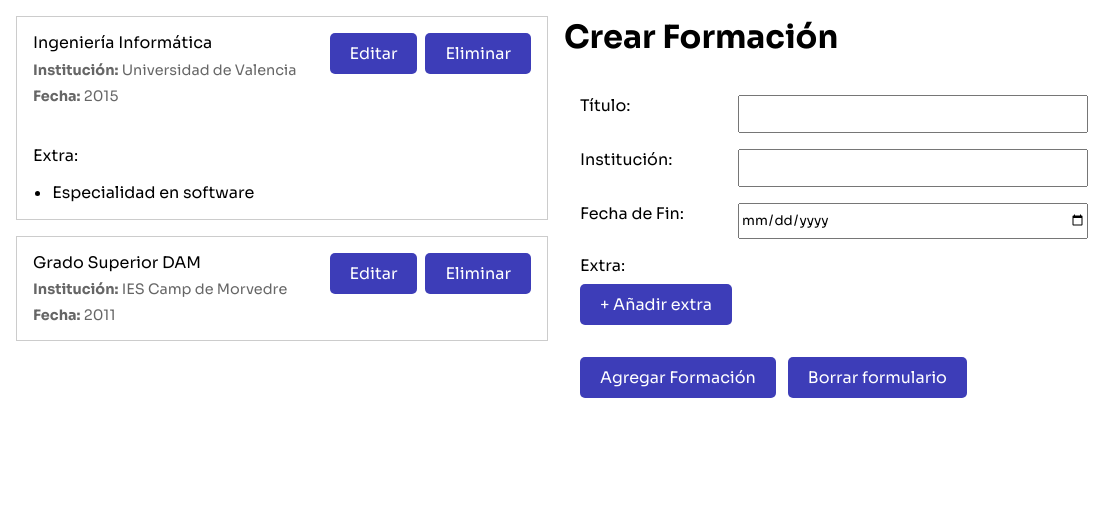
<Formacion /> › la «X» de un extra borra solo esa fila
This screenshot has width=1105, height=507.
Click the button "+ Añadir extra".
click(656, 304)  # box [580,284,732,325]
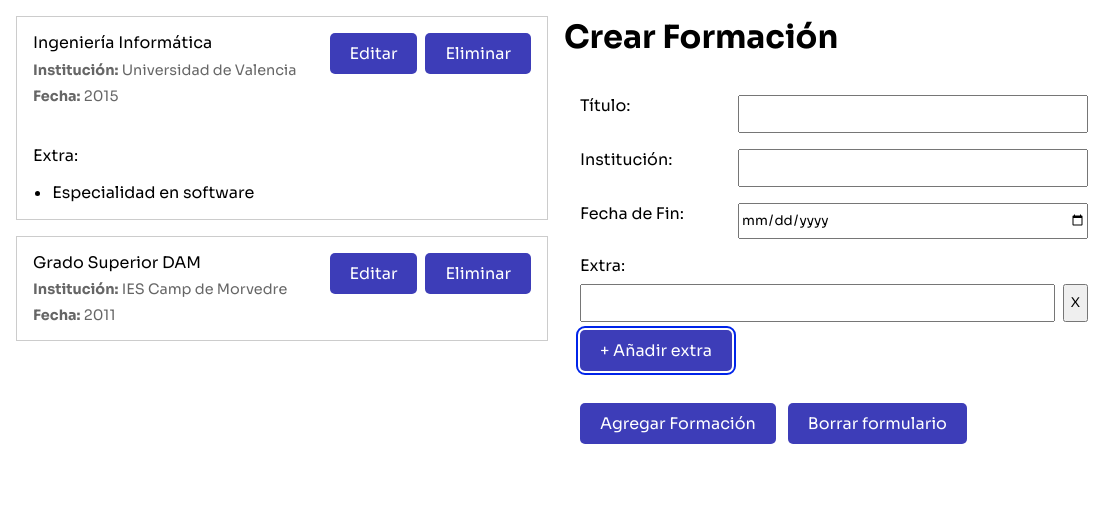
Type "Primer extra" into the field named "Extra 1".
click(817, 303); type("Primer extra")  # box [580,284,1055,322]
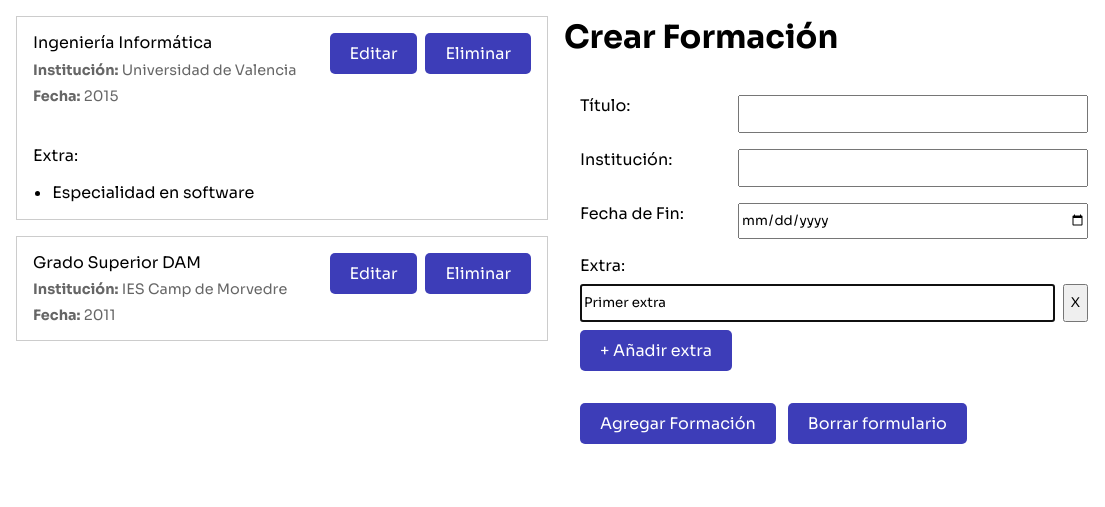
Click the button "+ Añadir extra".
click(656, 350)  # box [580,330,732,371]
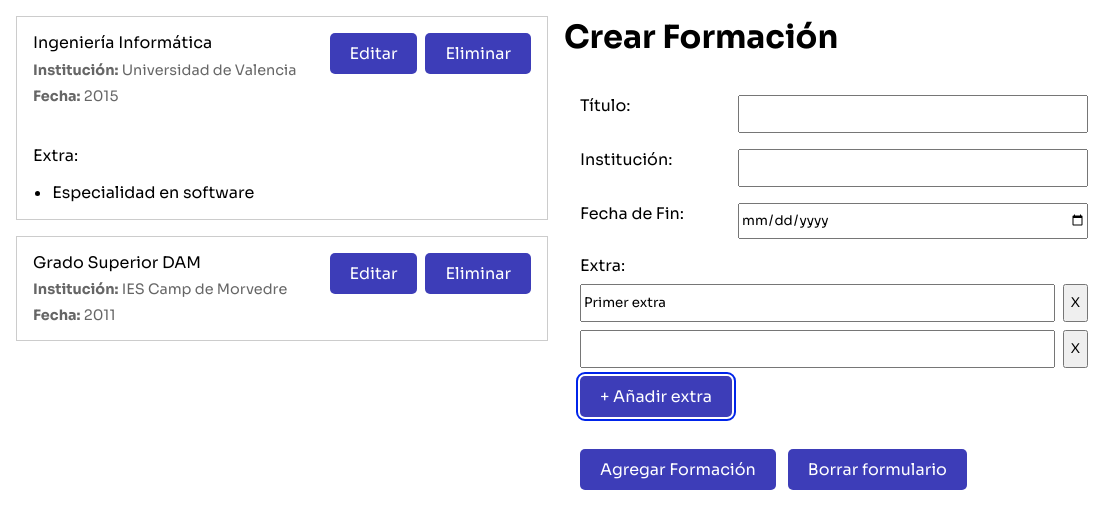
Type "Segundo extra" into the field named "Extra 2".
click(817, 349); type("Segundo extra")  # box [580,330,1055,368]
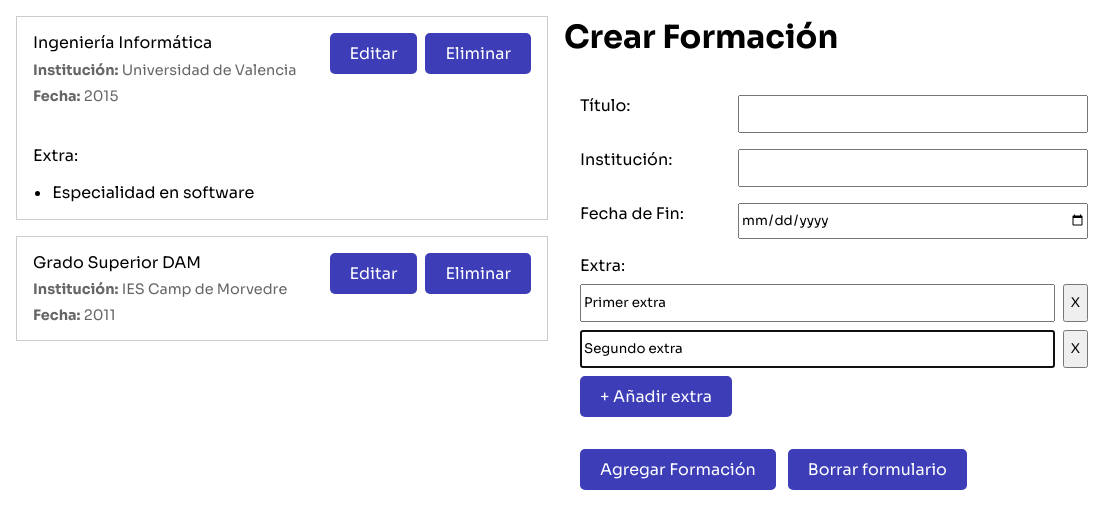
Click the button named "Borrar extra 1".
click(1075, 303)  # box [1063,284,1088,322]
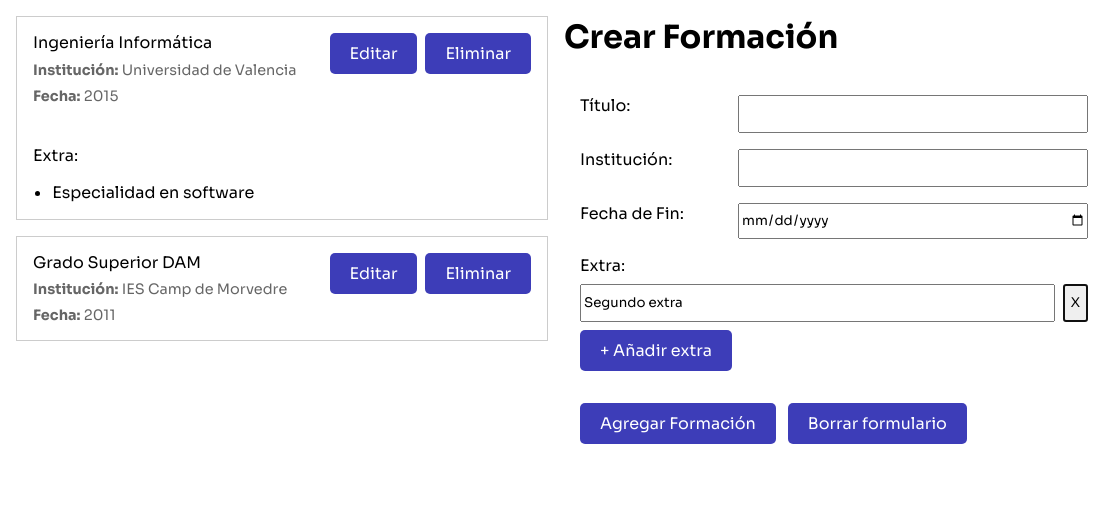
Now the field named "Extra 1" holds "Segundo extra", box [580,284,1055,322]
